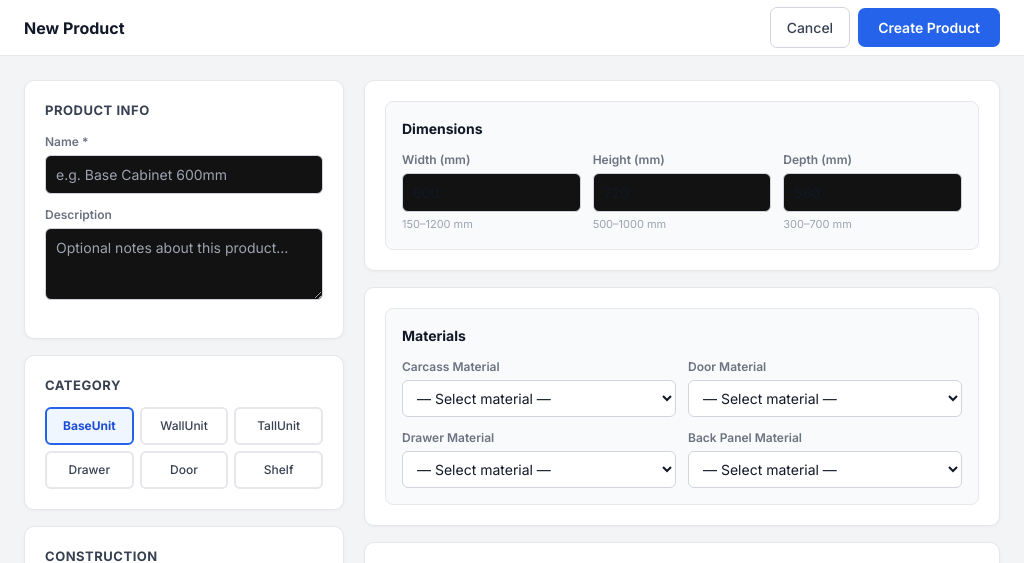
Test: ProductEditor — save flow › shows error toast when save fails
Type "My Cabinet" into the field with test id "input-name" at x=184, y=174, box x1=45 y1=154 x2=323 y2=194
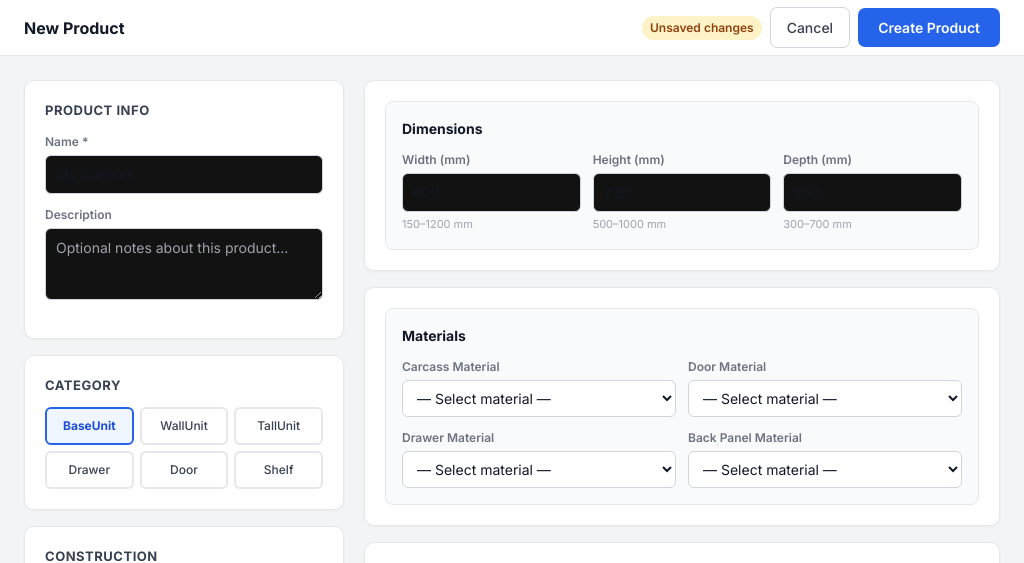
Select "MDF 18mm (18mm)" in the dropdown labelled "Carcass Material" at x=539, y=398, box x1=402 y1=380 x2=676 y2=416
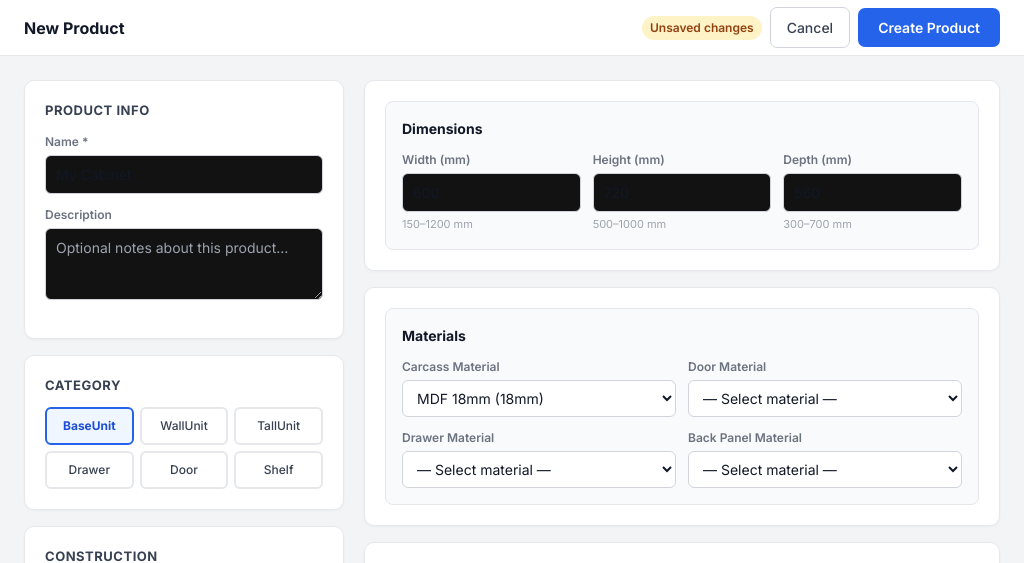
Select "MDF 18mm (18mm)" in the dropdown labelled "Door Material" at x=825, y=398, box x1=688 y1=380 x2=962 y2=416
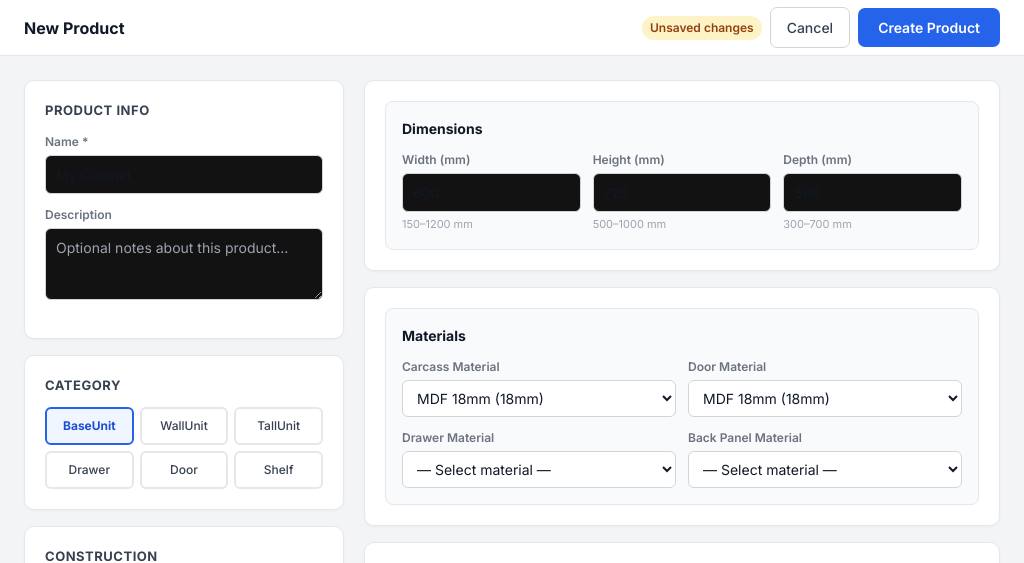
Select "MDF 18mm (18mm)" in the dropdown labelled "Drawer Material" at x=539, y=469, box x1=402 y1=450 x2=676 y2=488
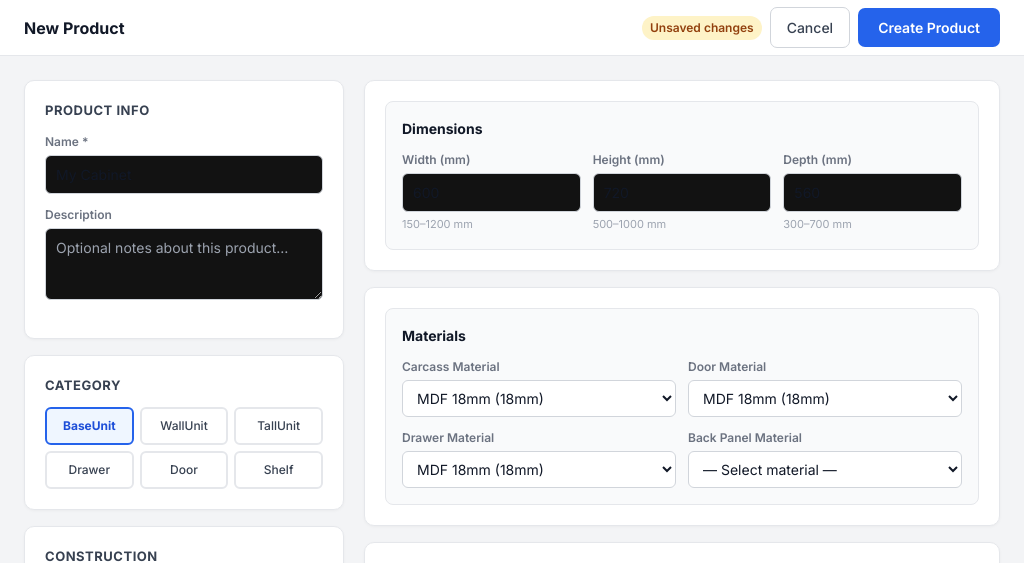
Select "MDF 18mm (18mm)" in the dropdown labelled "Back Panel Material" at x=825, y=469, box x1=688 y1=450 x2=962 y2=488
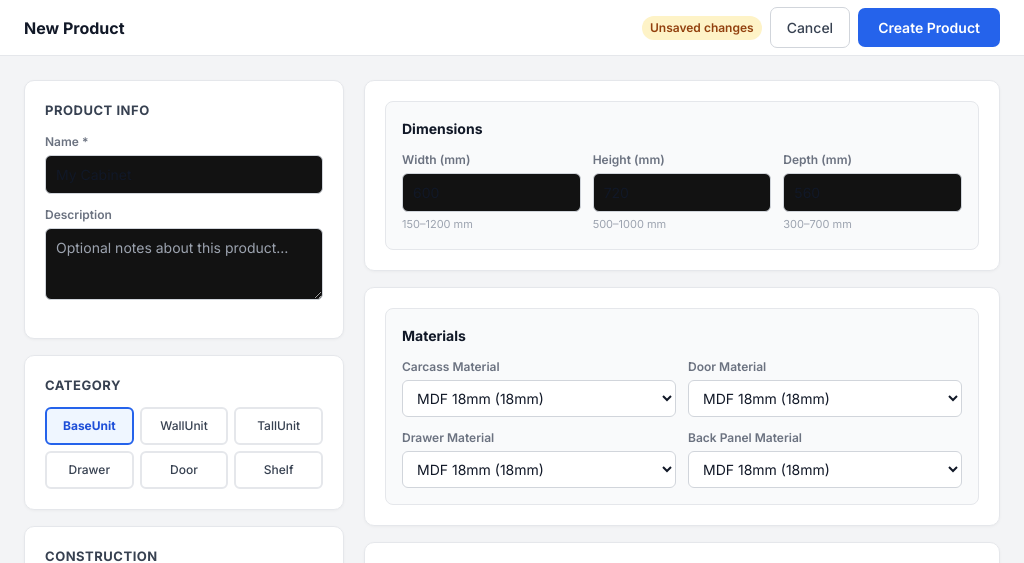
Click the button with test id "btn-save" at x=929, y=28, box x1=858 y1=8 x2=1000 y2=47
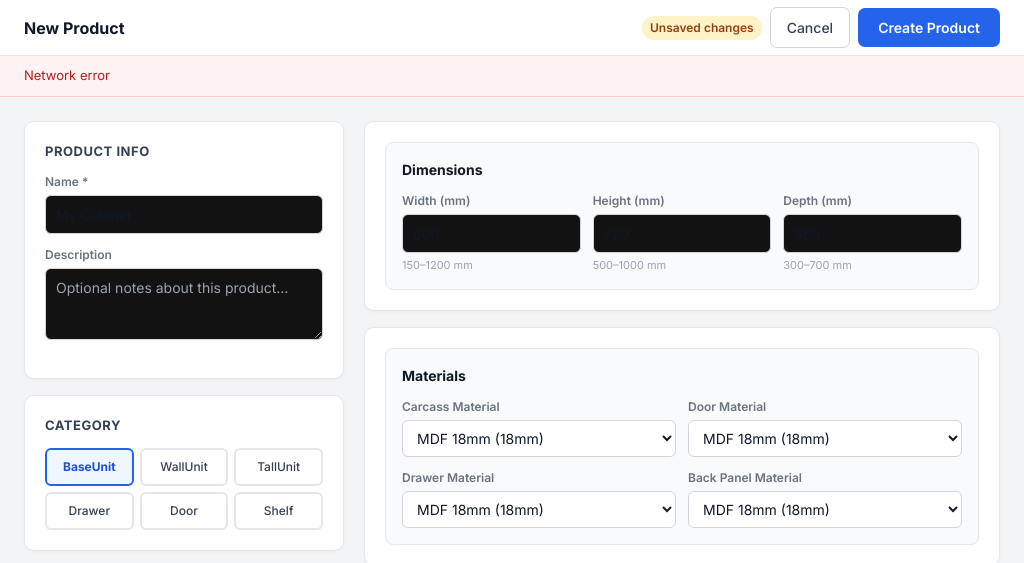
Now the message with test id "save-error-banner" is shown, box x1=0 y1=56 x2=1023 y2=96
